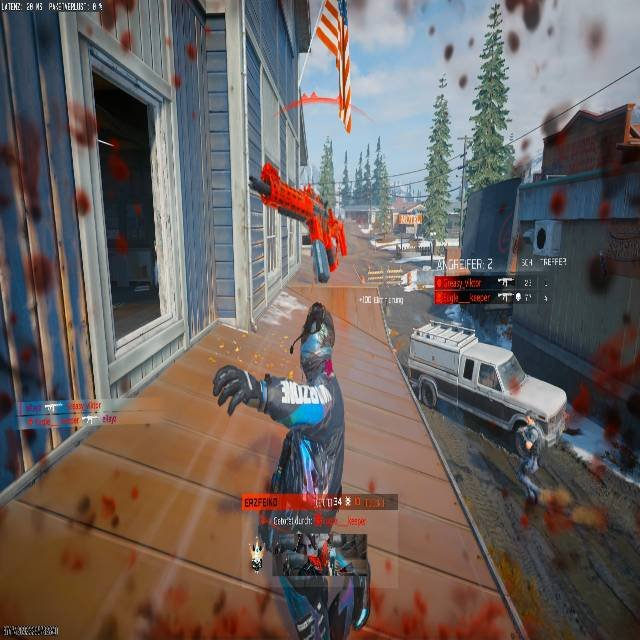player: (214, 300, 361, 640)
